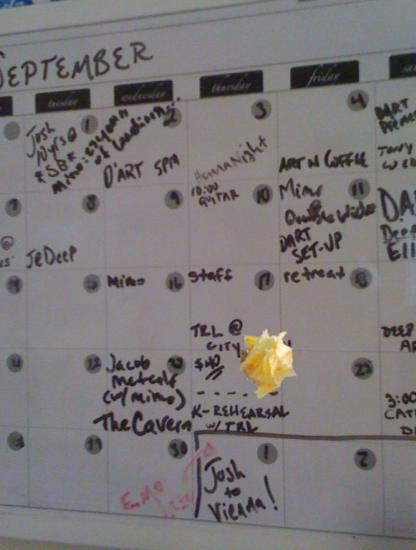Physalis: (232, 327, 306, 401)
